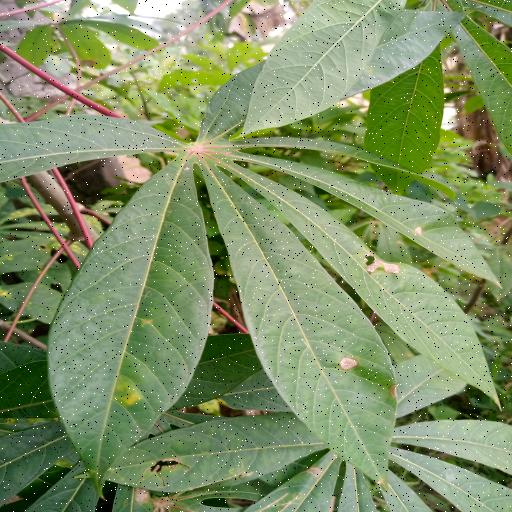Cassava_Brown_Leaf_Spot: (5, 59, 507, 480)
